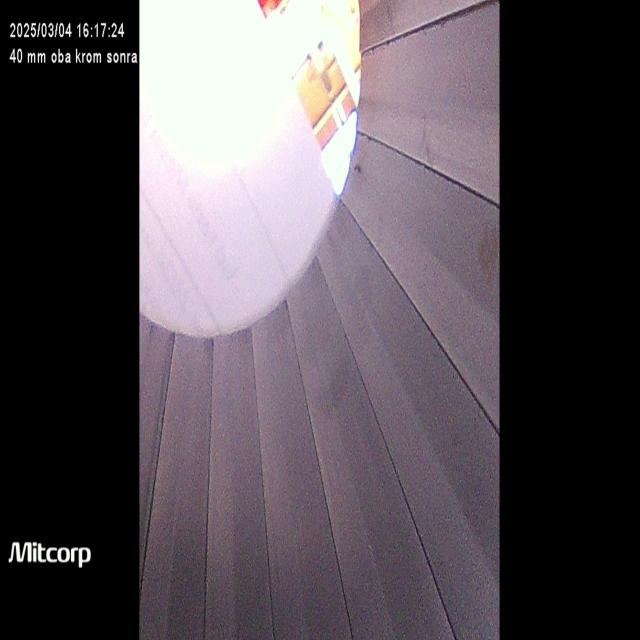hata_4.2: (435, 408, 492, 472), (475, 211, 506, 296), (322, 358, 359, 426), (413, 111, 442, 196), (352, 158, 365, 185)
